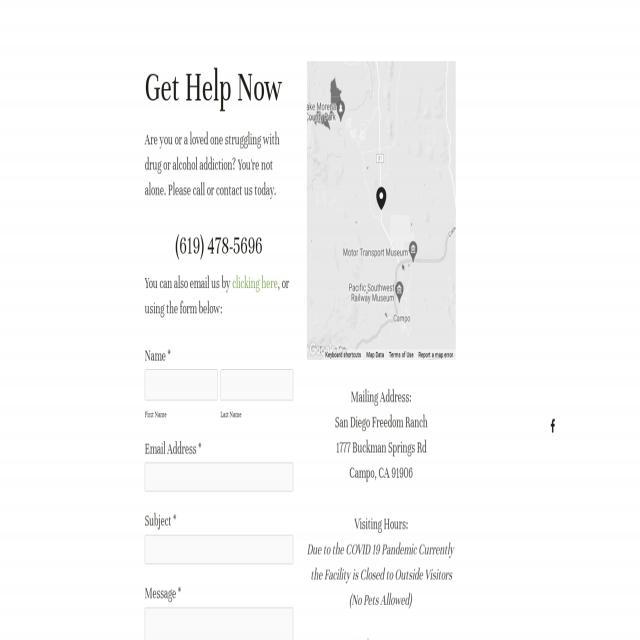button: (309, 340, 336, 360), (545, 411, 561, 440), (325, 350, 361, 359), (376, 187, 386, 211), (366, 350, 384, 359)
field: (145, 606, 293, 640), (145, 534, 293, 564), (145, 462, 293, 491), (145, 370, 217, 400), (221, 370, 293, 400)
